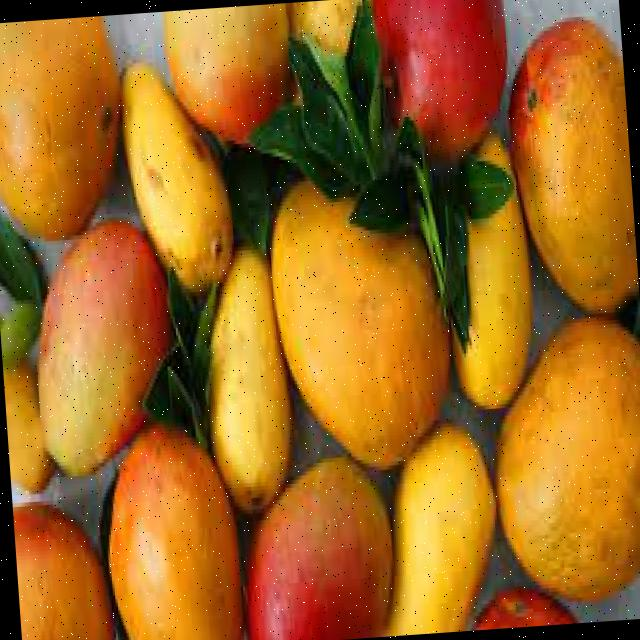mango: (274, 176, 452, 448)
